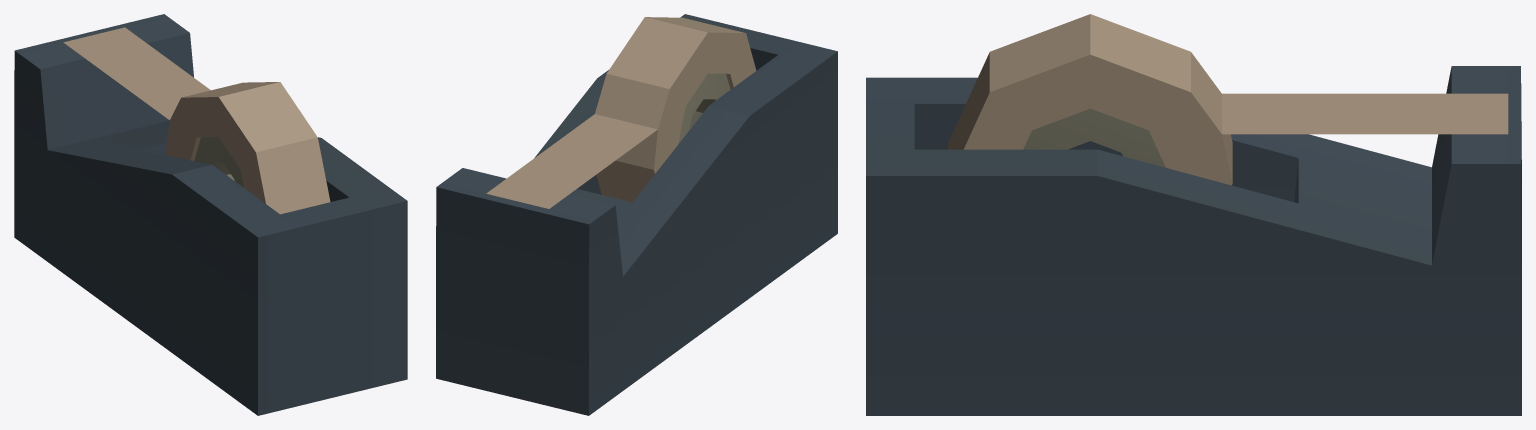
File: SM_Celo.fbx
3 views of the same model, side by side, from view 1: azimuth 30°, elevation 25°; view 2: azimuth 150°, elevation 25°; view 3: azimuth 270°, elevation 25° (orthographic). The views are drawn at different scales.
Parts seen in each view (by area): view 1: Cube, Cylinder; view 2: Cube, Cylinder; view 3: Cube, Cylinder.
Boxes of the visible parts, <box> form: Cube: <box>14,14,407,415</box>; Cylinder: <box>63,27,330,214</box>; Cube: <box>436,14,837,415</box>; Cylinder: <box>486,17,756,208</box>; Cube: <box>866,66,1521,415</box>; Cylinder: <box>948,14,1508,185</box>.
Size of the model in its own units: 6.13 by 9.67 by 17.29.
